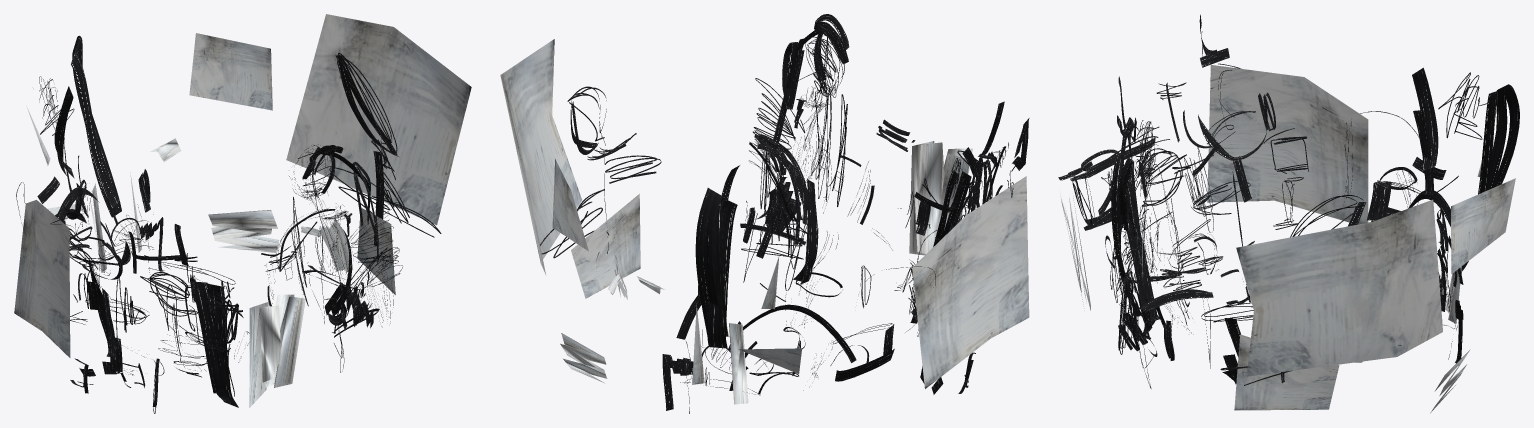
Rendered from systemeundmenschen.glb.
The picture shows the model from 3 angles, left to right: view 1: azimuth 30°, elevation 25°; view 2: azimuth 150°, elevation 25°; view 3: azimuth 270°, elevation 25°; orthographic projection. The views are drawn at different scales.
Parts seen in each view (by area): view 1: white, black; view 2: white, black; view 3: white, black.
Part boxes in pixels (x1,y1,x2,y2): white: [14, 14, 471, 407]; black: [16, 35, 441, 413]; white: [500, 39, 1029, 404]; black: [538, 14, 1029, 413]; white: [1059, 65, 1515, 413]; black: [1058, 14, 1519, 388].
Bounding box in the file's own units: 3.46 × 2.02 × 3.1.
Materials: 2 (2 with a texture image).
